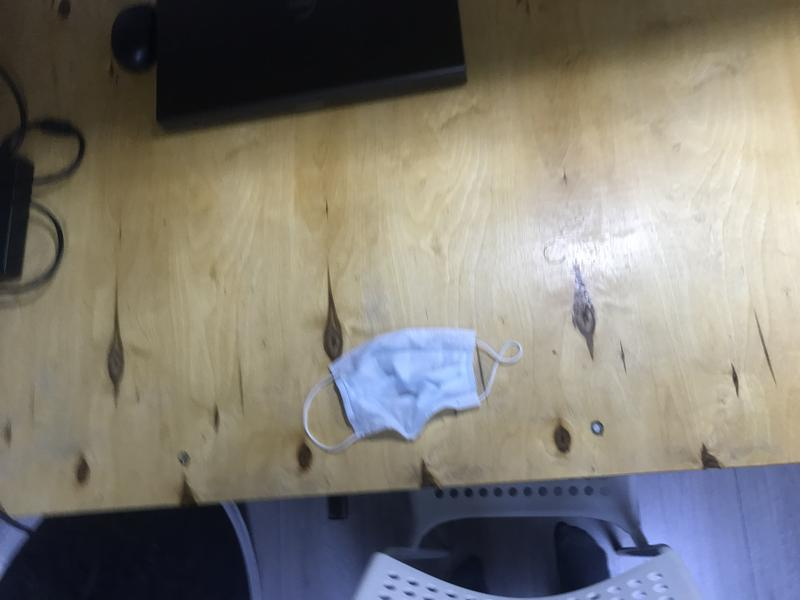medical_mask: (304, 328, 523, 452)
